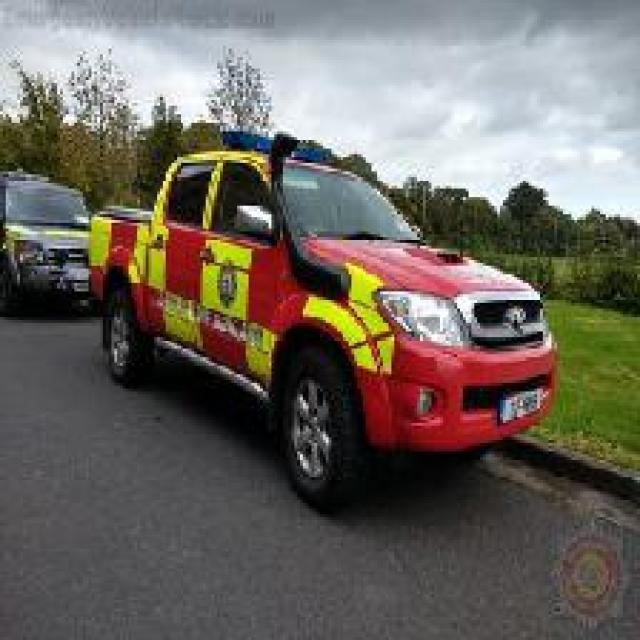emergency: (84, 131, 560, 514), (2, 170, 98, 318)
